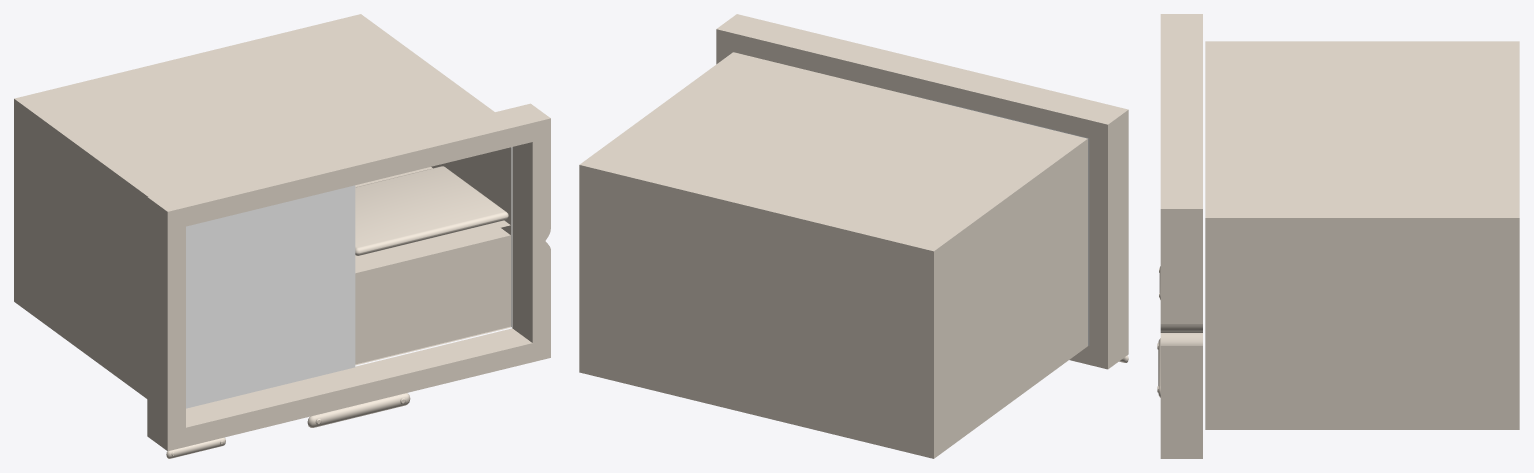
File: dirtCollector.glb
3 views of the same model, side by side, from view 1: azimuth 30°, elevation 25°; view 2: azimuth 150°, elevation 25°; view 3: azimuth 270°, elevation 25° (orthographic). The views are drawn at different scales.
Parts seen in each view (by area): view 1: model.001; view 2: model.001; view 3: model.001.
Part boxes in pixels (<box>): model.001: <box>14,14,550,458</box>; model.001: <box>579,14,1128,458</box>; model.001: <box>1157,14,1519,458</box>.
Bounding box in the file's own units: 71.12 × 44.66 × 55.79.
